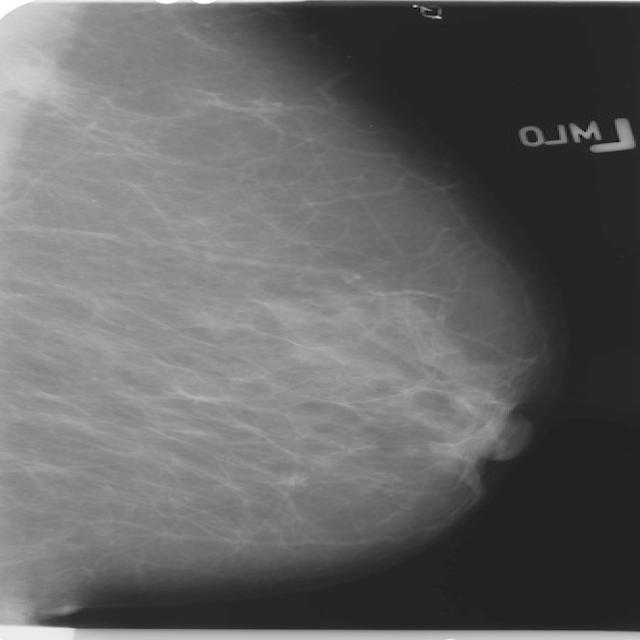tumour: (0, 50, 73, 104)
